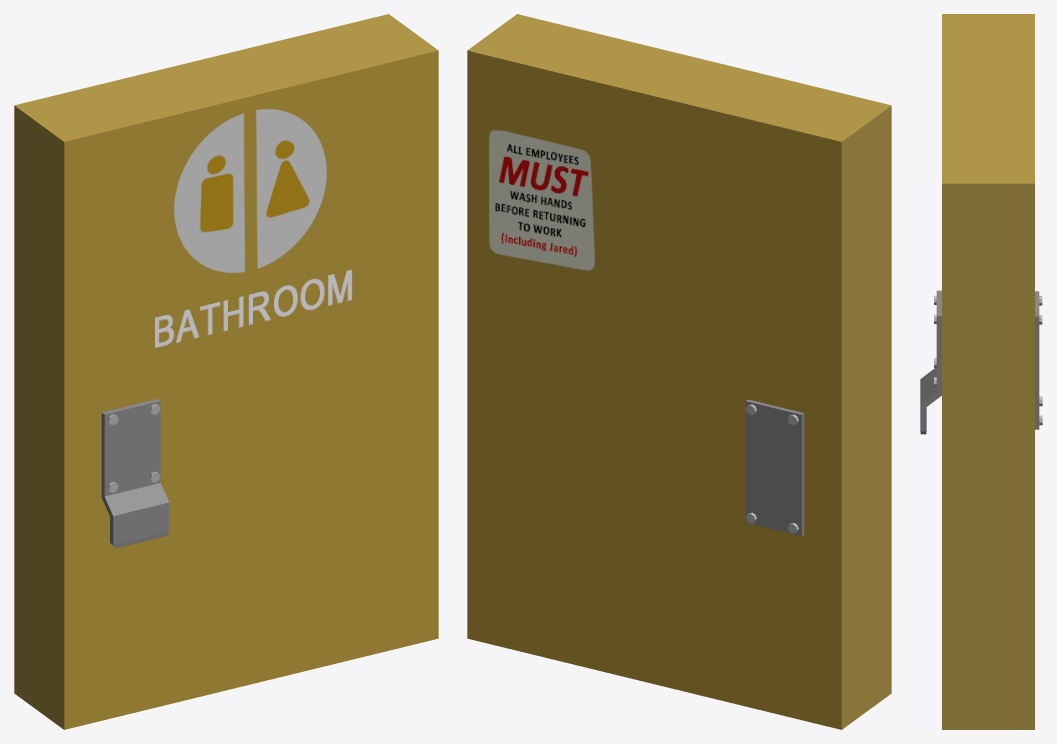
File: BathroomDoor.fbx
3 views of the same model, side by side, from view 1: azimuth 30°, elevation 25°; view 2: azimuth 150°, elevation 25°; view 3: azimuth 270°, elevation 25° (orthographic). The views are drawn at different scales.
Visible parts, largest first — view 1: Screw thingies.002; view 2: Screw thingies.002; view 3: Screw thingies.002.
Boxes of the visible parts, x1=… form: Screw thingies.002: x1=14, y1=14, x2=438, y2=729; Screw thingies.002: x1=467, y1=14, x2=891, y2=729; Screw thingies.002: x1=920, y1=14, x2=1042, y2=729.
Size of the model in its own units: 200 by 300 by 60.81.
Materials: 4 (1 with a texture image).
